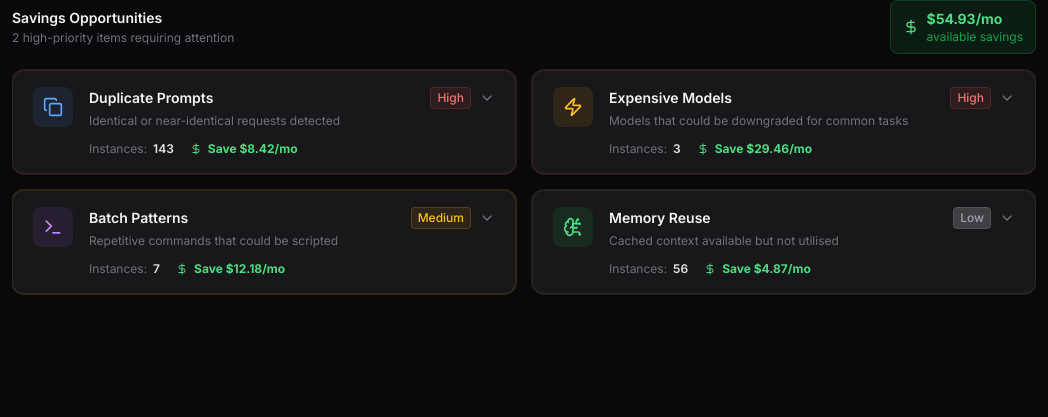
SavingsOpportunities › shows details when a card is clicked
Click the button "Duplicate Prompts": (264, 122) [13,71,515,173]
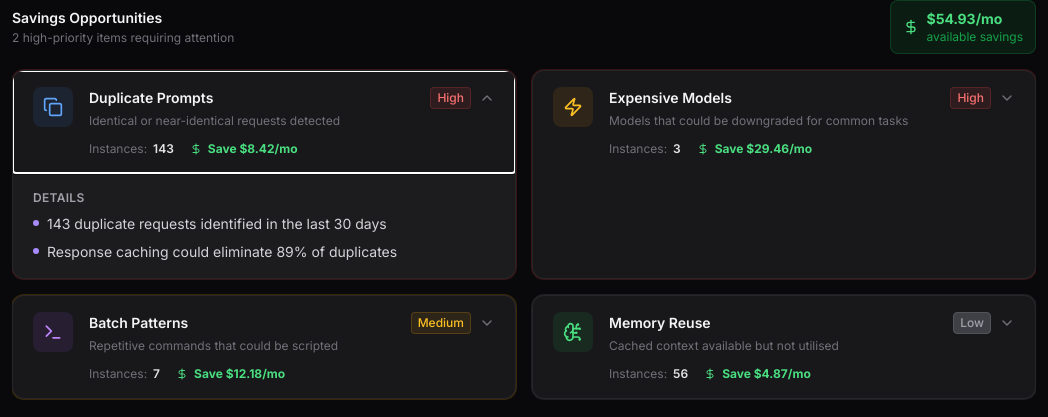
Expected: the text "Details" is shown, [33,190,84,205]
Expected: the text "143 duplicate requests identified in the last 30 days" is shown, [47,214,387,234]
